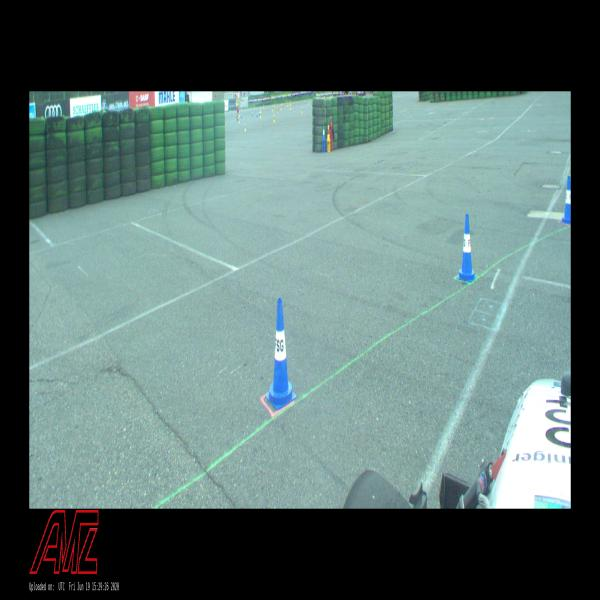blue_cone: (265, 297, 297, 410), (457, 214, 476, 282), (560, 176, 571, 224), (323, 125, 326, 141)
yellow_cone: (327, 125, 330, 140), (274, 115, 276, 122)
